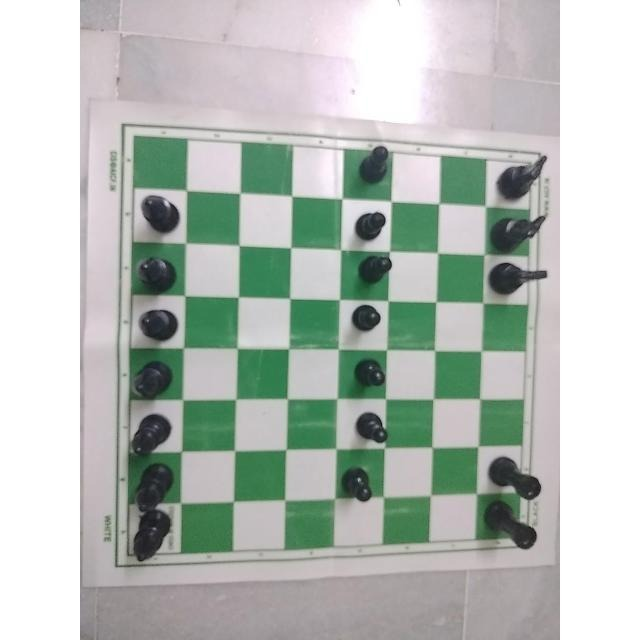black-bishop: (115, 407, 181, 455), (124, 460, 182, 513), (125, 188, 179, 244), (125, 515, 179, 569), (133, 349, 183, 403), (130, 248, 178, 295), (132, 297, 179, 345)
black-knight: (484, 150, 554, 204), (487, 258, 553, 311), (481, 207, 551, 256)
black-pawn: (345, 353, 393, 397), (343, 404, 388, 449), (347, 204, 391, 248), (350, 299, 392, 345), (355, 139, 392, 189), (338, 465, 380, 505), (348, 250, 394, 286)
black-rook: (476, 443, 541, 500), (482, 508, 544, 562)
